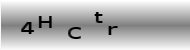4: (20, 21, 35, 35)
C: (67, 26, 81, 40)
H: (37, 15, 53, 29)
r: (106, 24, 118, 36)
t: (92, 10, 104, 24)
